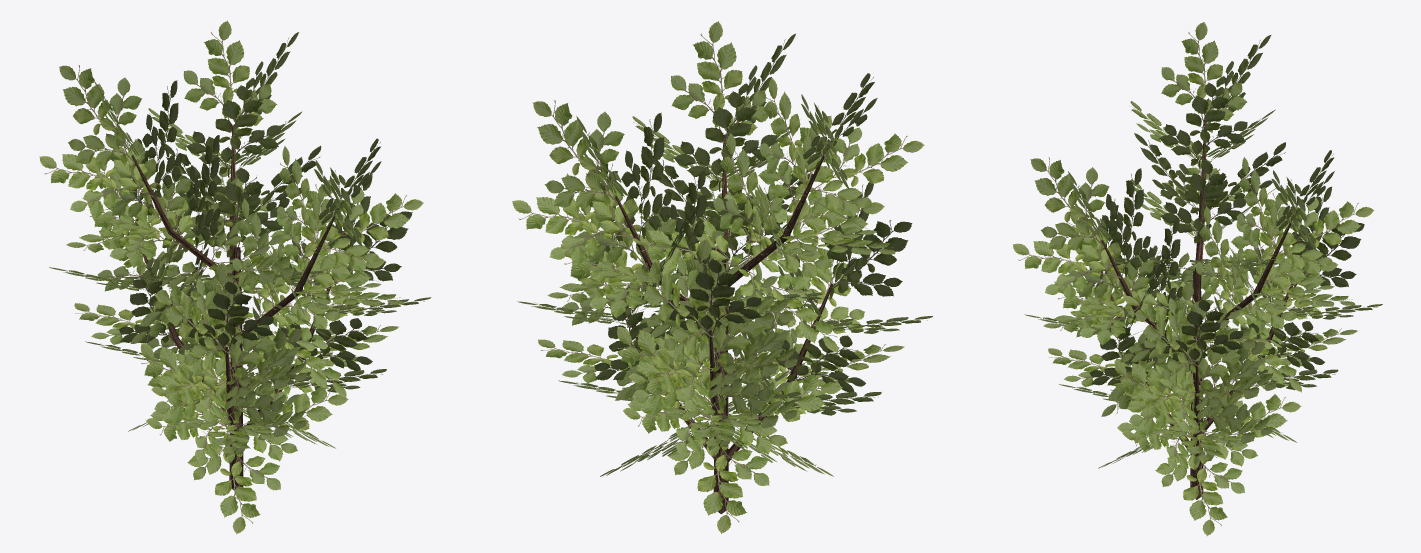
The model's file is small tree2.FBX.
3 renders of one model, left to right at view 1: azimuth 30°, elevation 25°; view 2: azimuth 150°, elevation 25°; view 3: azimuth 270°, elevation 25°, orthographic. The views are drawn at different scales.
Visible parts, largest first — view 1: Cylinder001; view 2: Cylinder001; view 3: Cylinder001.
Part boxes in pixels (x1,y1,x2,y2): Cylinder001: (39,20,431,534); Cylinder001: (512,21,932,533); Cylinder001: (1012,22,1382,535).
Size of the model in its own units: 5.25 by 6.07 by 5.37.
